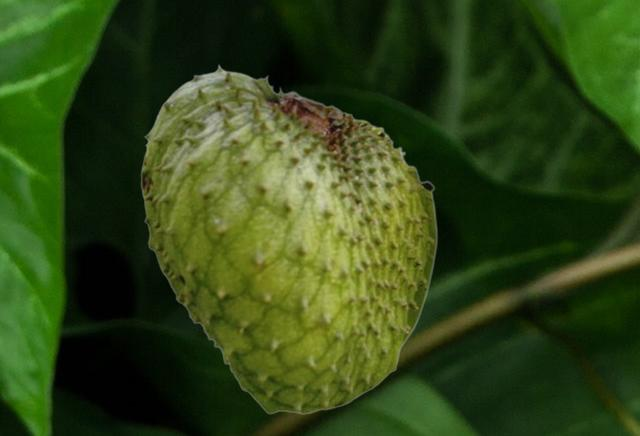guyabano: (140, 63, 437, 414)
